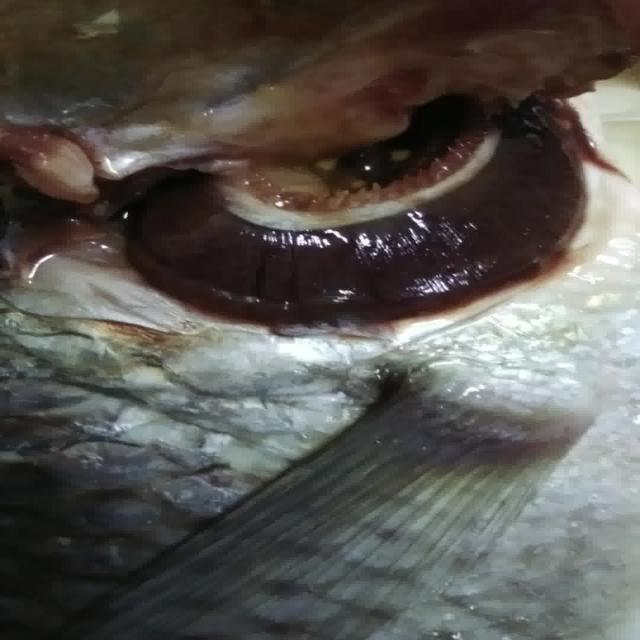Non-Fresh: (79, 74, 622, 370)
